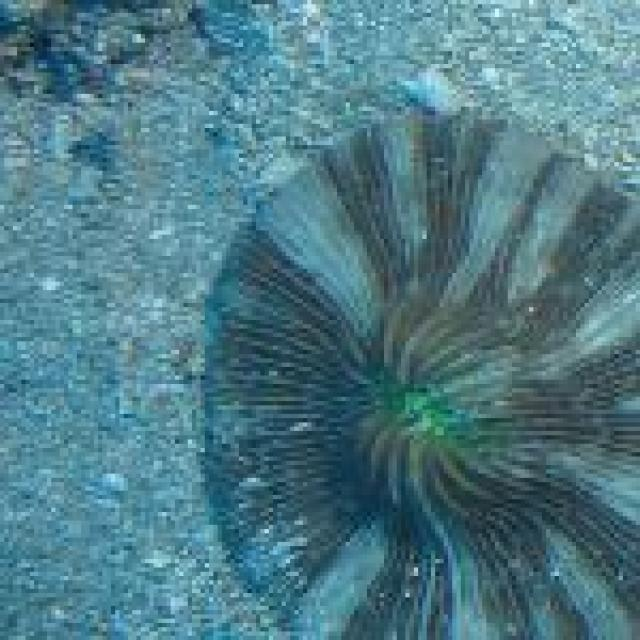Healthy Coral: (177, 95, 640, 640)
